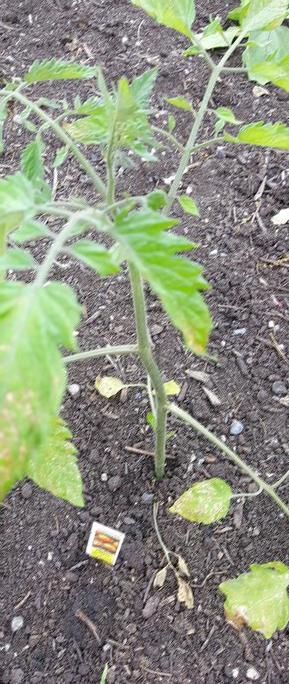Tomato leaf bacterial spot: (0, 247, 87, 549), (103, 203, 225, 358), (105, 0, 200, 48), (222, 0, 286, 47)
